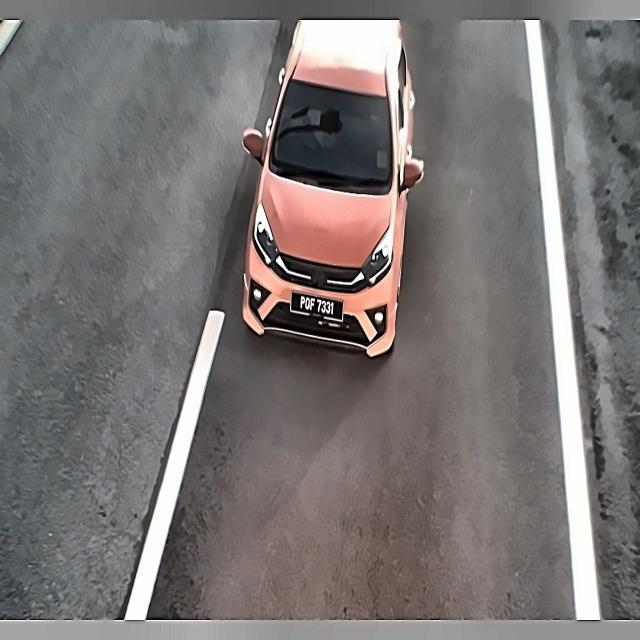car: (292, 286, 341, 327)
